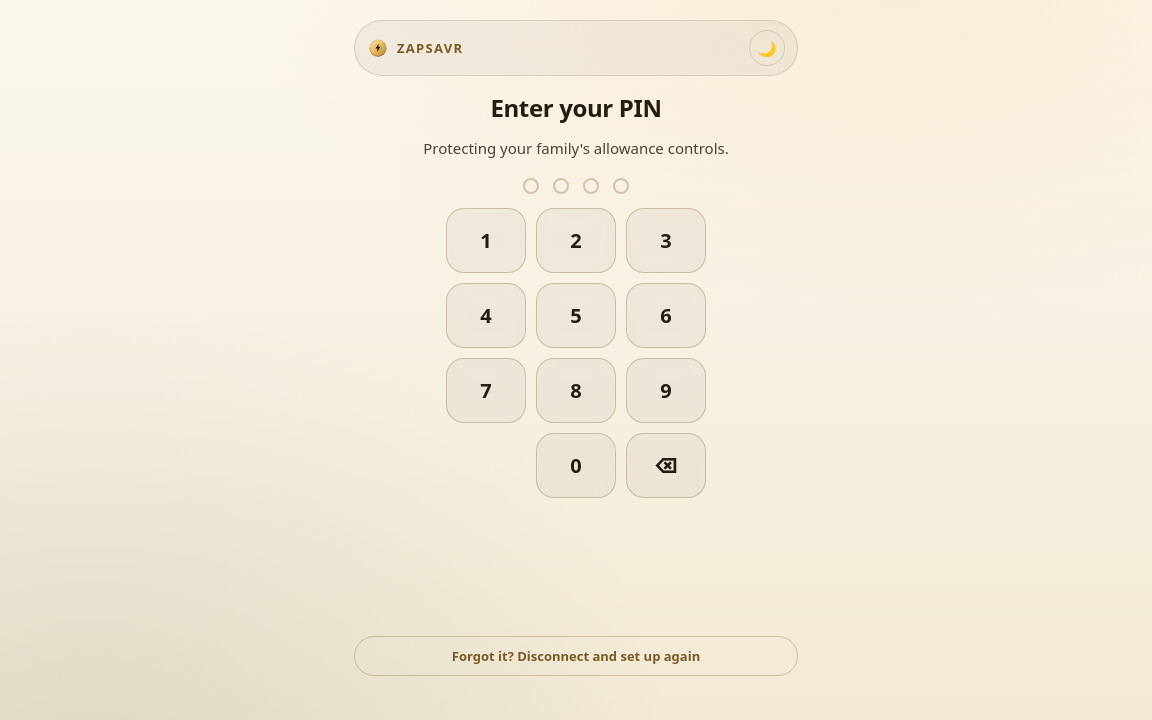
Test: ParentFlow PIN gate — the local access-control property this codebase owns › the correct PIN unlocks the family dashboard
The width and height of the screenshot is (1152, 720).
Click the button "1": (486,240) [446, 208, 526, 273]
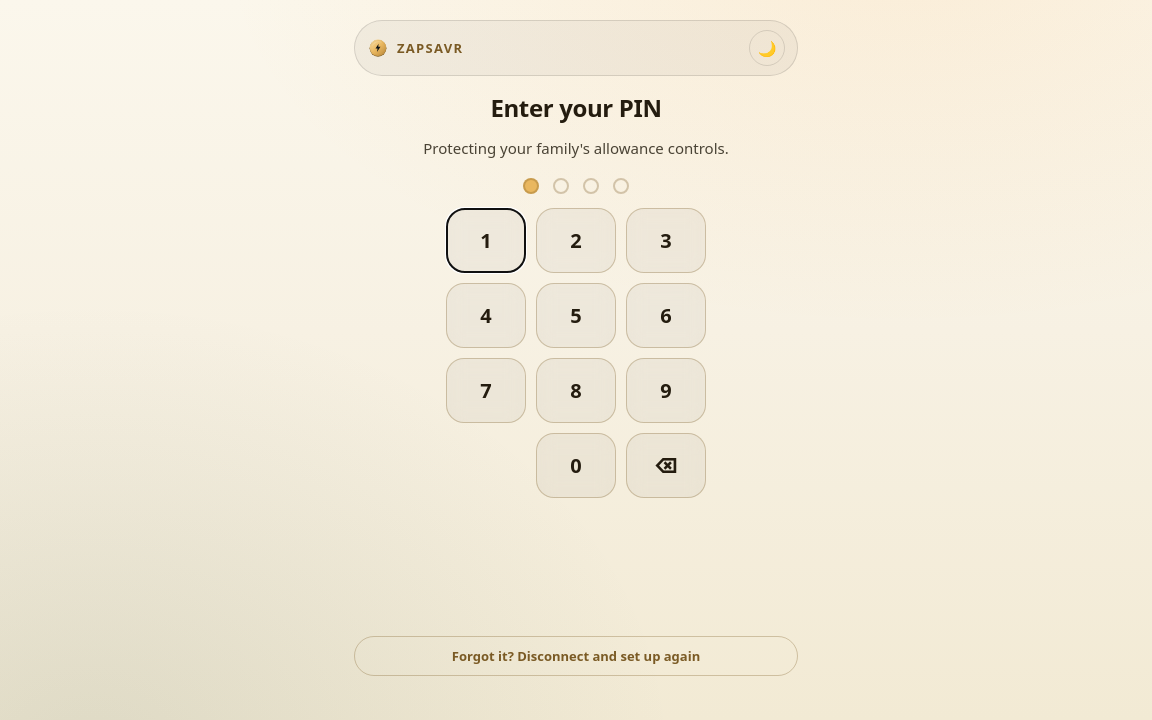
Click the button "2": (576,240) [536, 208, 616, 273]
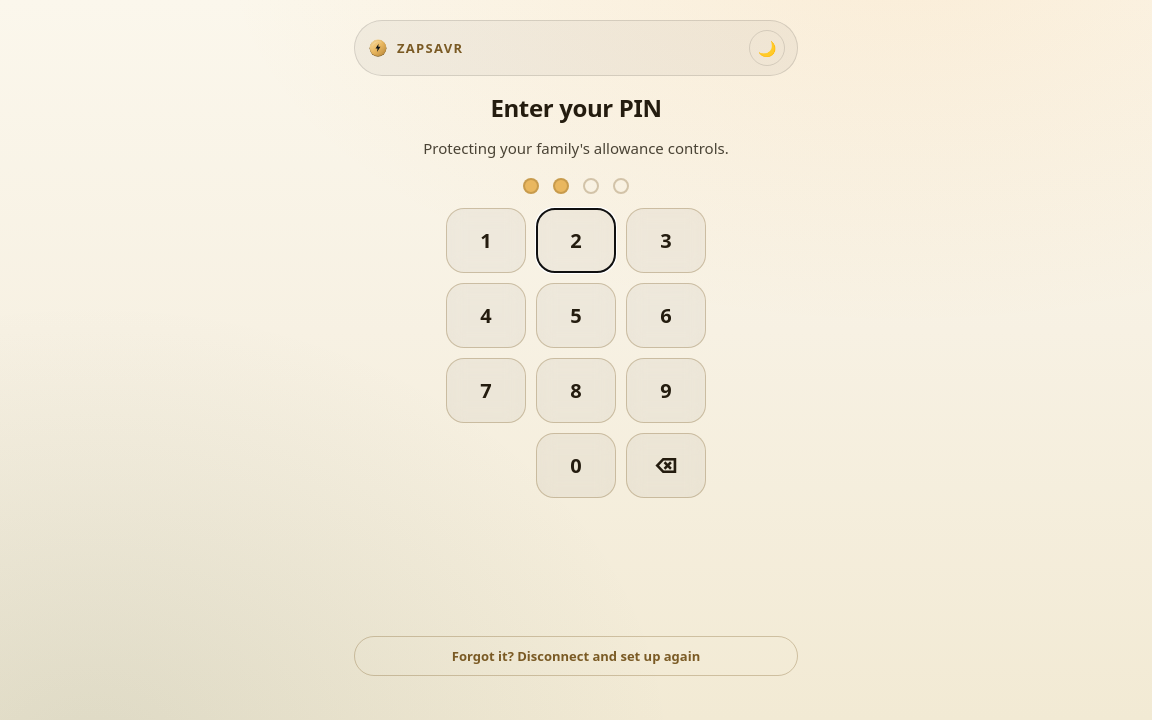
Click the button "3": (666,240) [626, 208, 706, 273]
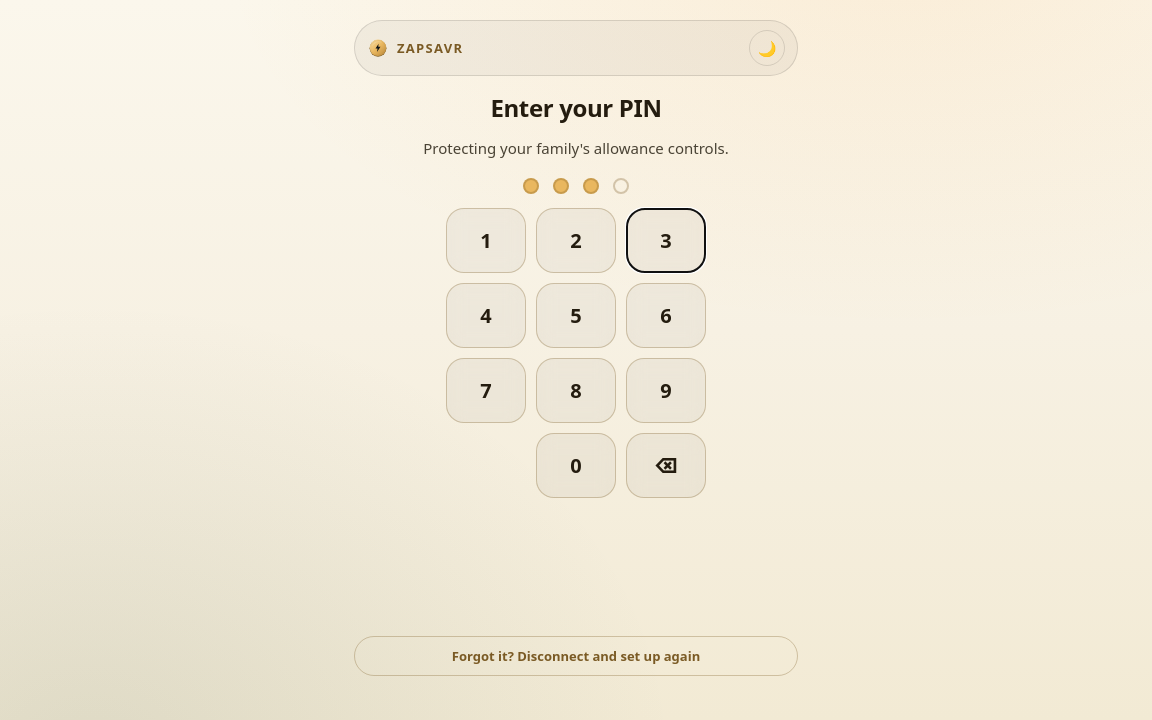
Click the button "4": (486,315) [446, 283, 526, 348]
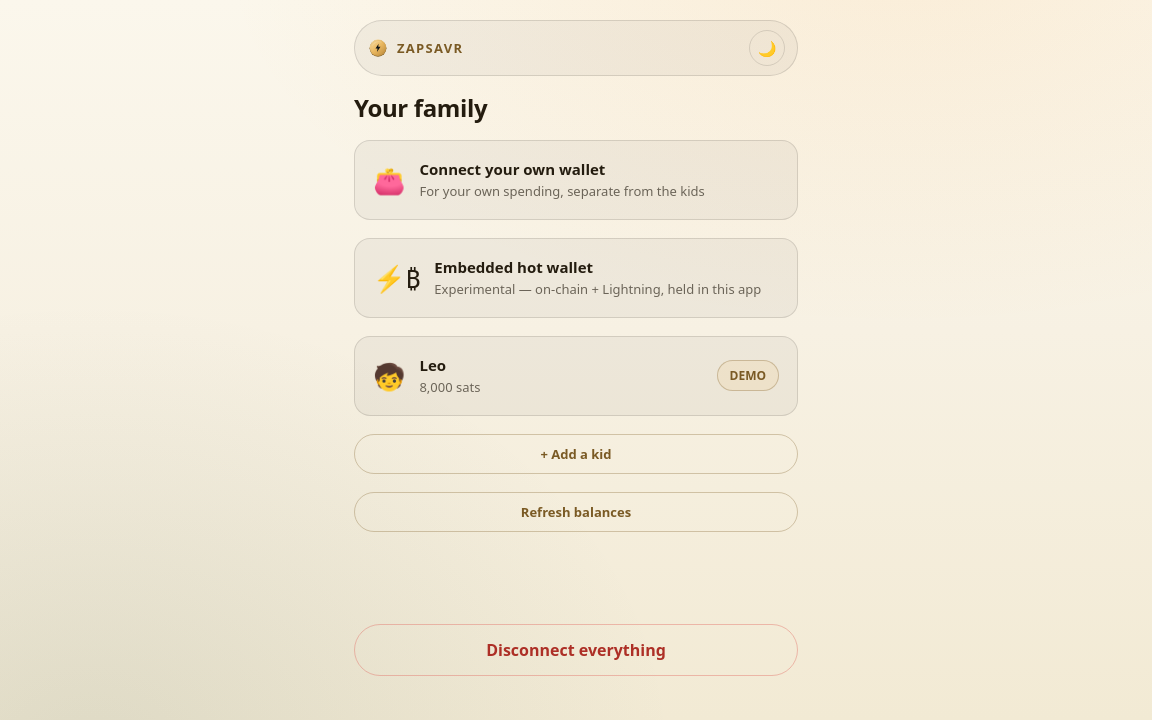
expect the text "Leo" is shown: met, box [419, 355, 446, 375]
